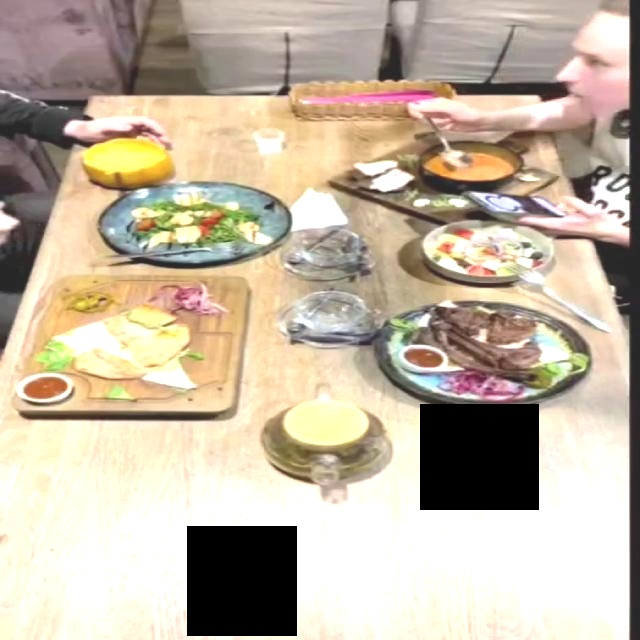meat: (17, 274, 250, 413), (384, 300, 575, 415)
salad: (91, 196, 347, 268), (409, 225, 579, 293)
soup: (407, 113, 563, 210), (79, 126, 181, 186)
tea: (250, 379, 416, 505)
